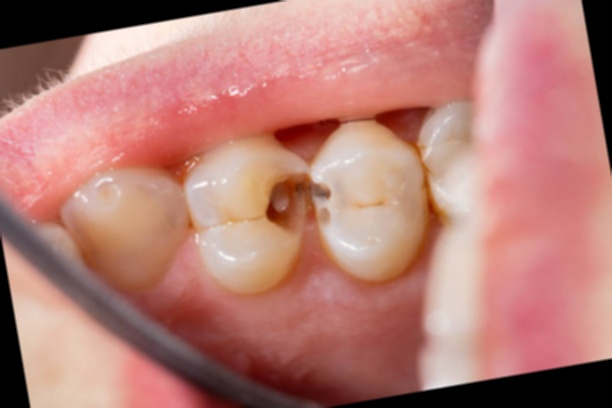Caries: (253, 160, 346, 248)
